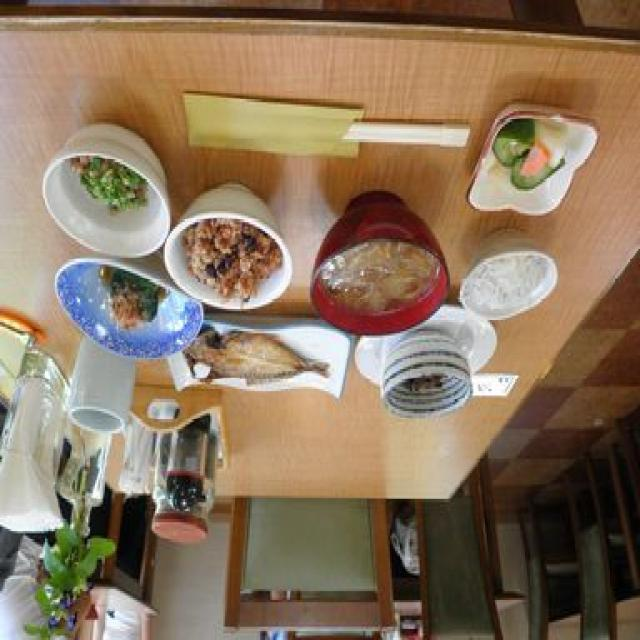Rice: (224, 453, 260, 487)
